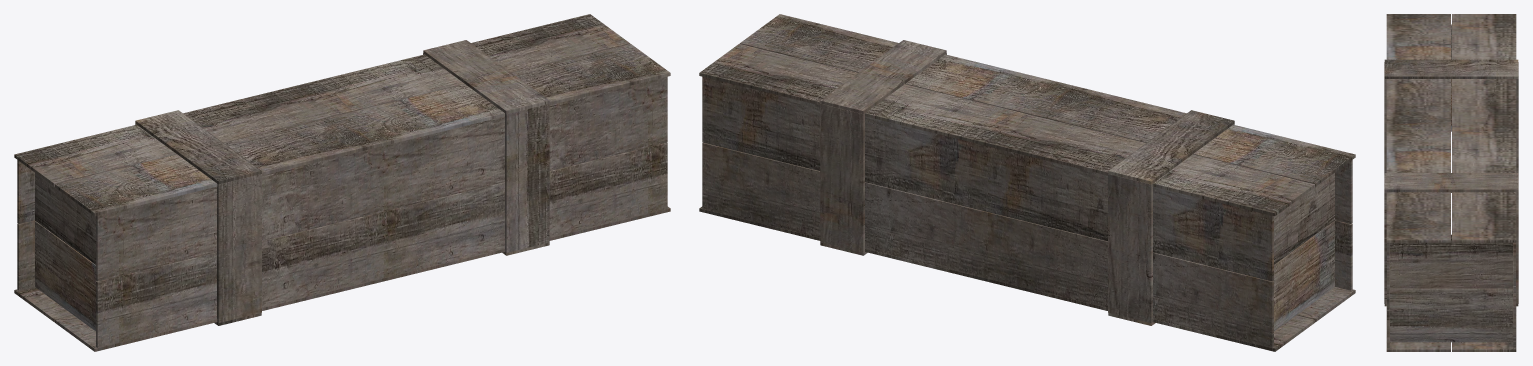
File: Crate_Long.glb
3 renders of one model, left to right at view 1: azimuth 30°, elevation 25°; view 2: azimuth 150°, elevation 25°; view 3: azimuth 270°, elevation 25°, orthographic. The views are drawn at different scales.
Parts seen in each view (by area): view 1: Crate-03; view 2: Crate-03; view 3: Crate-03.
Boxes of the visible parts, bbox=[...] form: Crate-03: bbox=[14, 14, 670, 351]; Crate-03: bbox=[699, 14, 1355, 351]; Crate-03: bbox=[1384, 14, 1518, 351].
Size of the model in its own units: 2.21 by 0.53 by 0.5543.
1 material, 1 textured.
